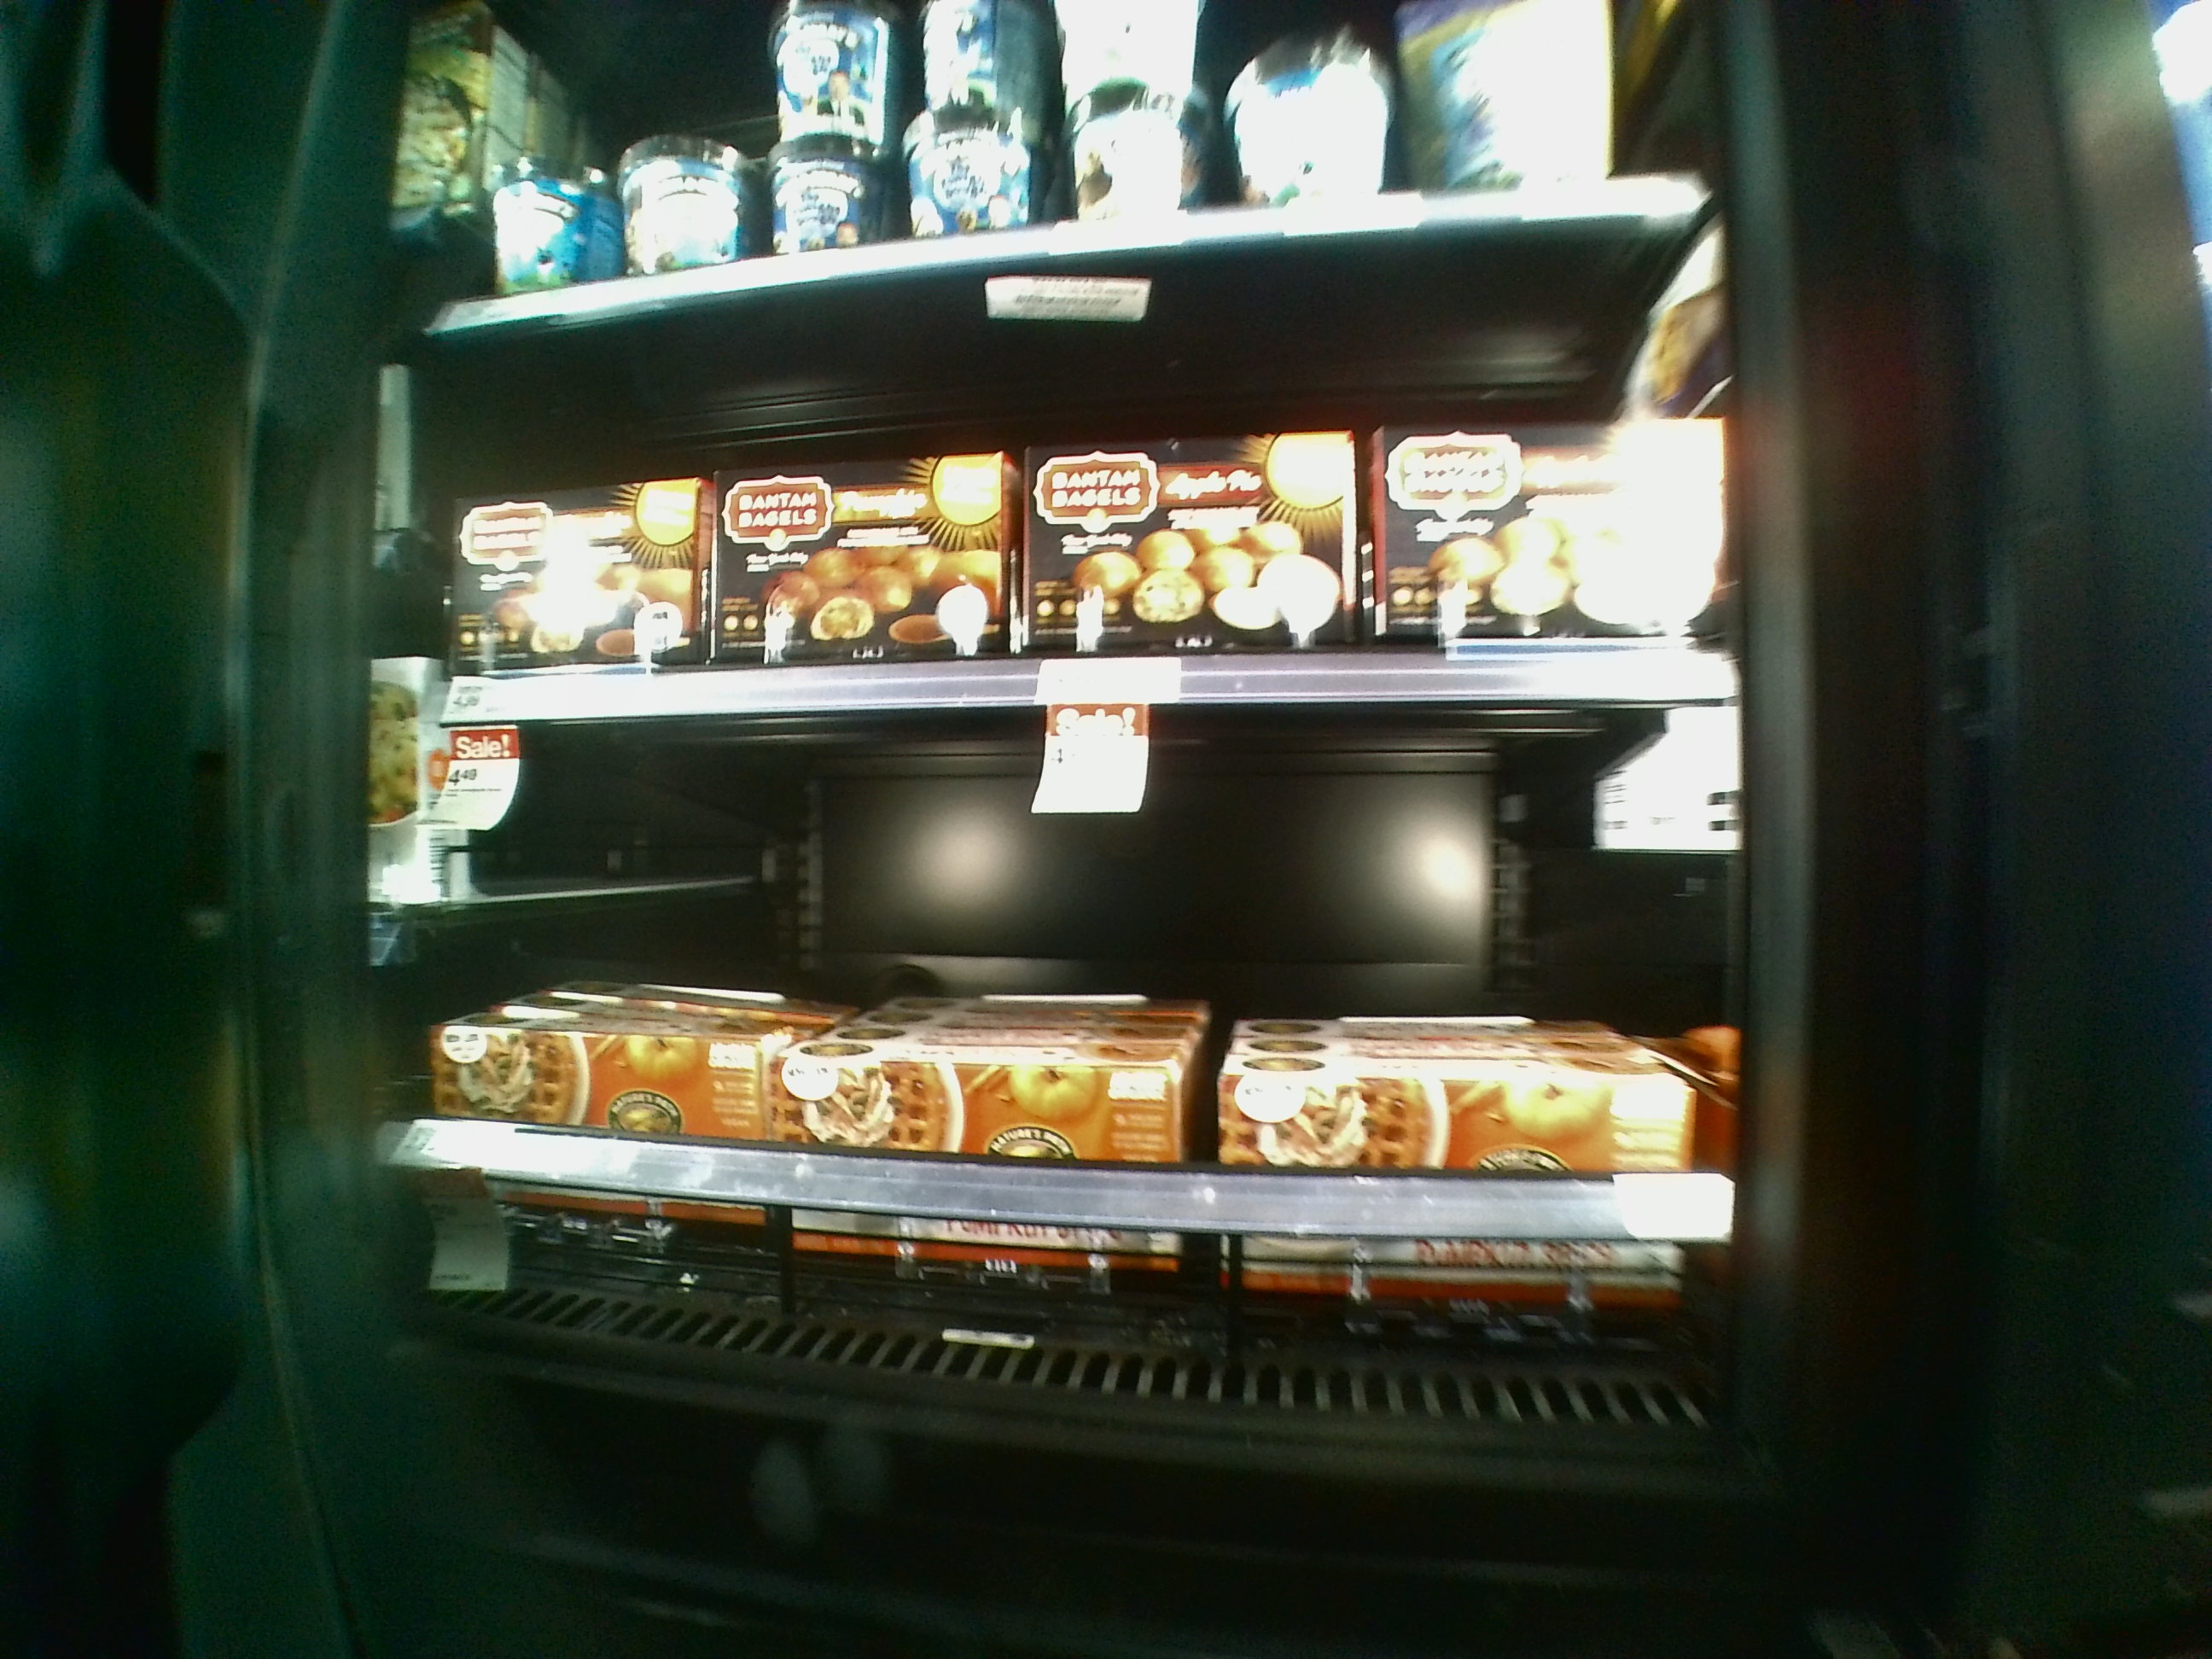shelf: (402, 699, 1735, 1422), (404, 282, 1747, 701)
